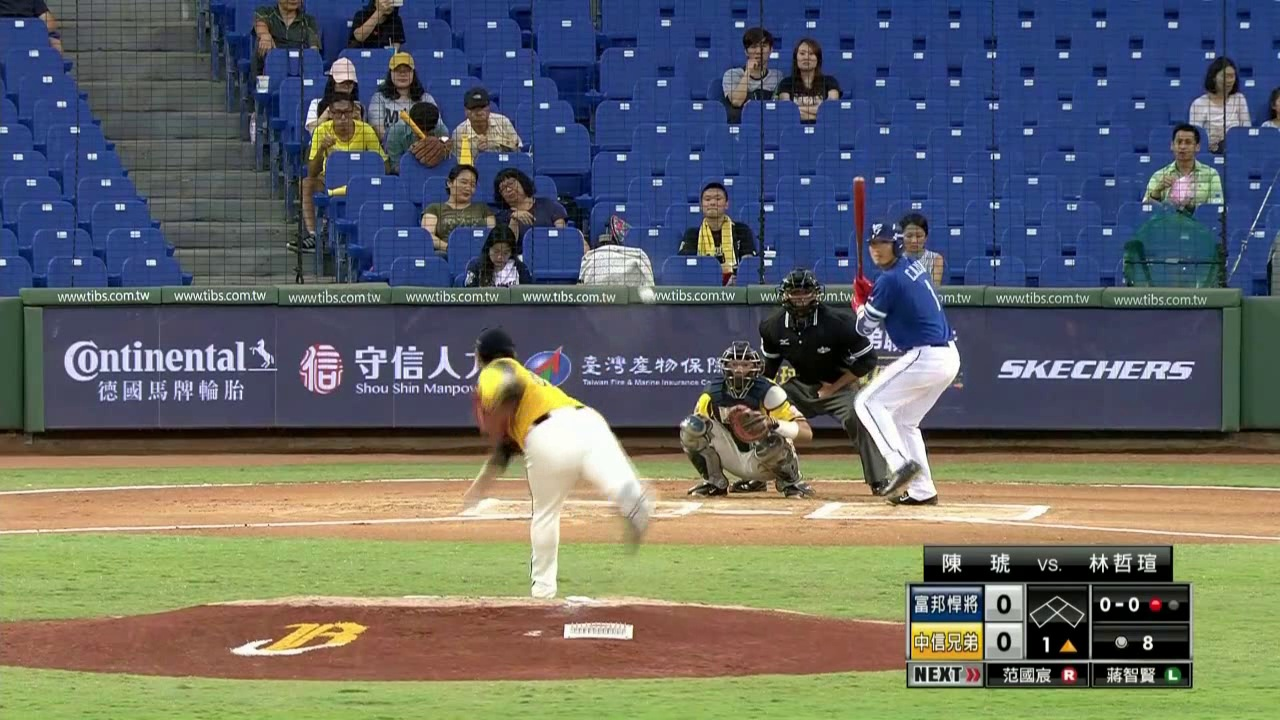ball: (641, 286, 651, 301)
base: (1029, 591, 1086, 630)
bat: (848, 175, 868, 274)
out: (1144, 592, 1182, 614)
score1: (986, 591, 1021, 618)
score2: (987, 627, 1024, 658)
session: (1026, 629, 1091, 660)
strikeball: (1097, 591, 1144, 617)
total: (1108, 628, 1160, 654)
